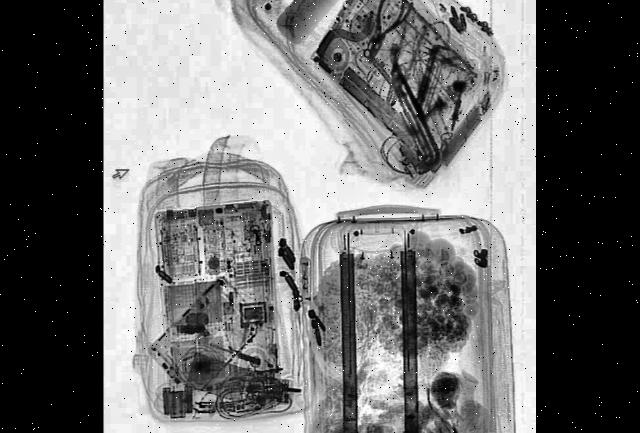Pliers: (361, 0, 410, 69)
